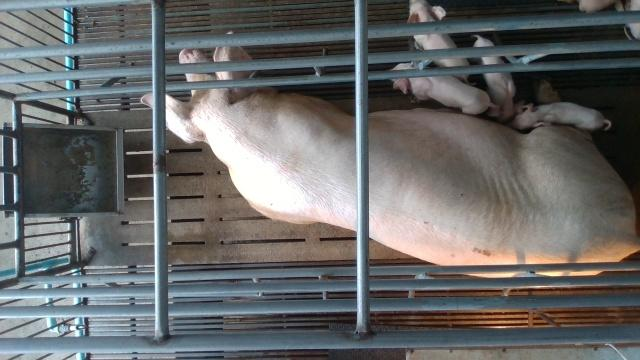piglet: (407, 0, 476, 87), (387, 62, 498, 116), (471, 34, 525, 124), (512, 102, 618, 132)
sow-sit: (142, 46, 640, 277)
